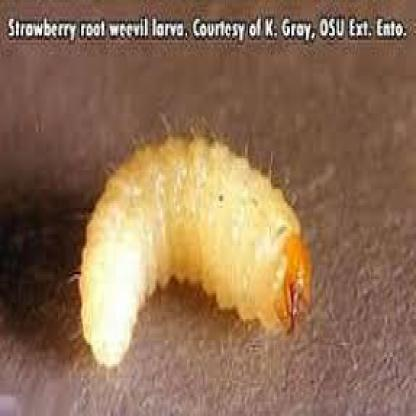root grubs: (82, 131, 307, 366)
